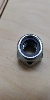Nut: (16, 32, 44, 69)
